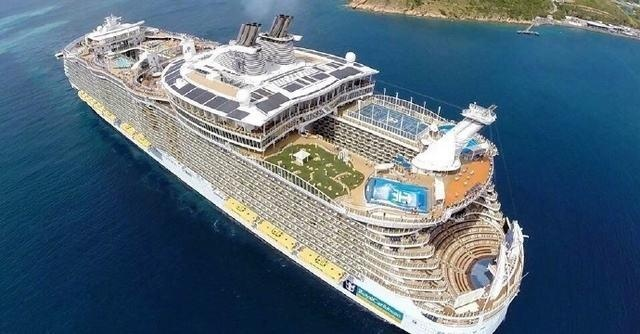youlun: (44, 10, 529, 334)
